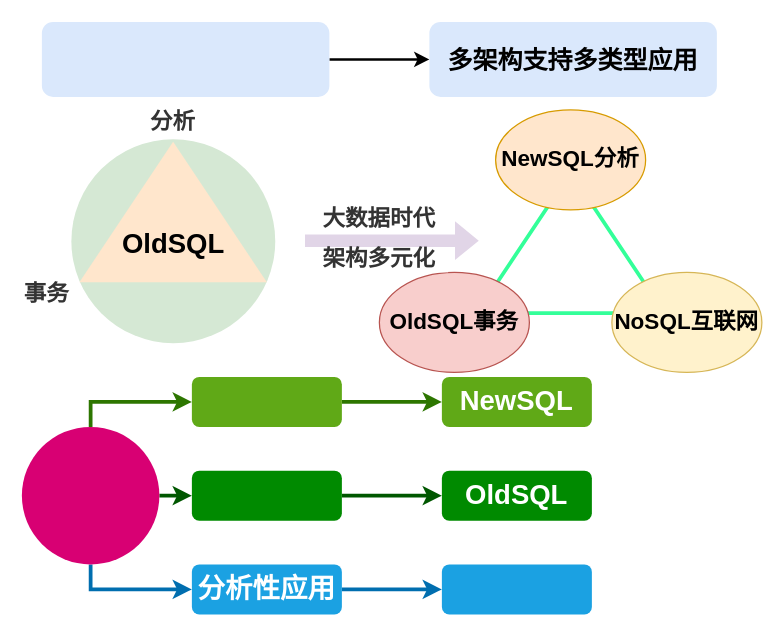
Image size: 784x635. Some labels were removed from this diagram. The shapes that lost their labels are listed below. From the top down, each one's centre as x and y in pixels, then its label:
At [185,58]: "一种架构支持所有类型 (One Size Fits All)".
At [295,299]: "互联网".
At [266,401]: "互联网应用".
At [90,495]: "应用场景".
At [266,495]: "事务型应用".
At [516,589]: "NoSQL".
